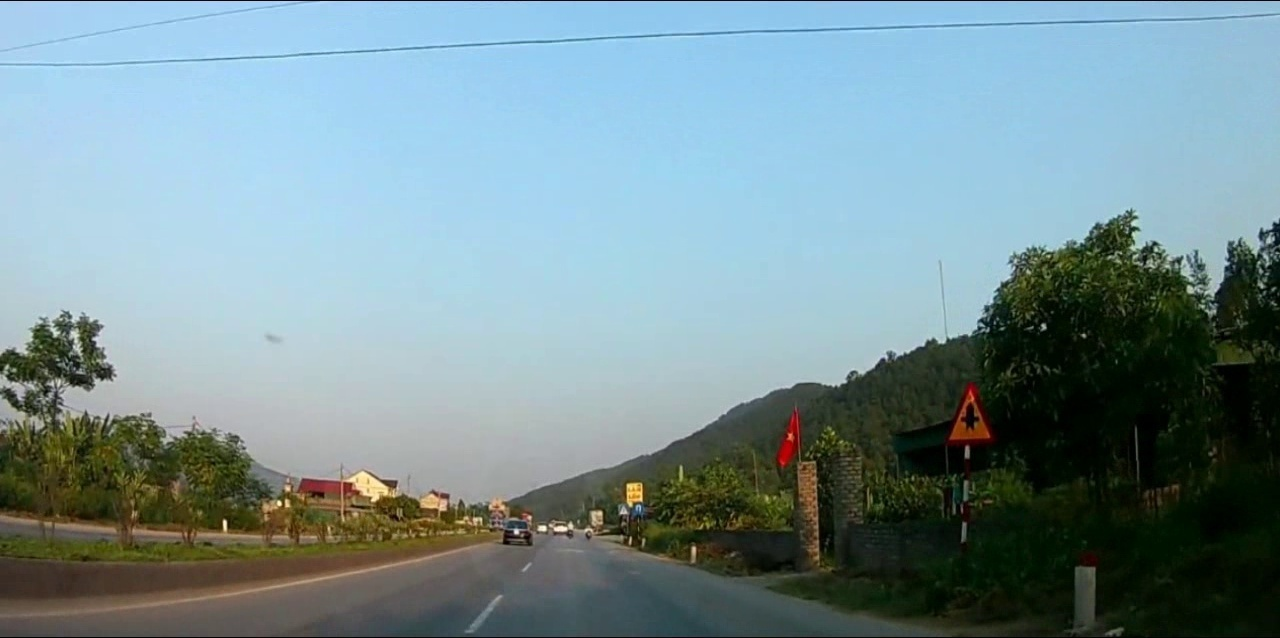Bien khac: (633, 503, 645, 515)
Giao nhau voi duong khong uu tien: (946, 381, 995, 444)
